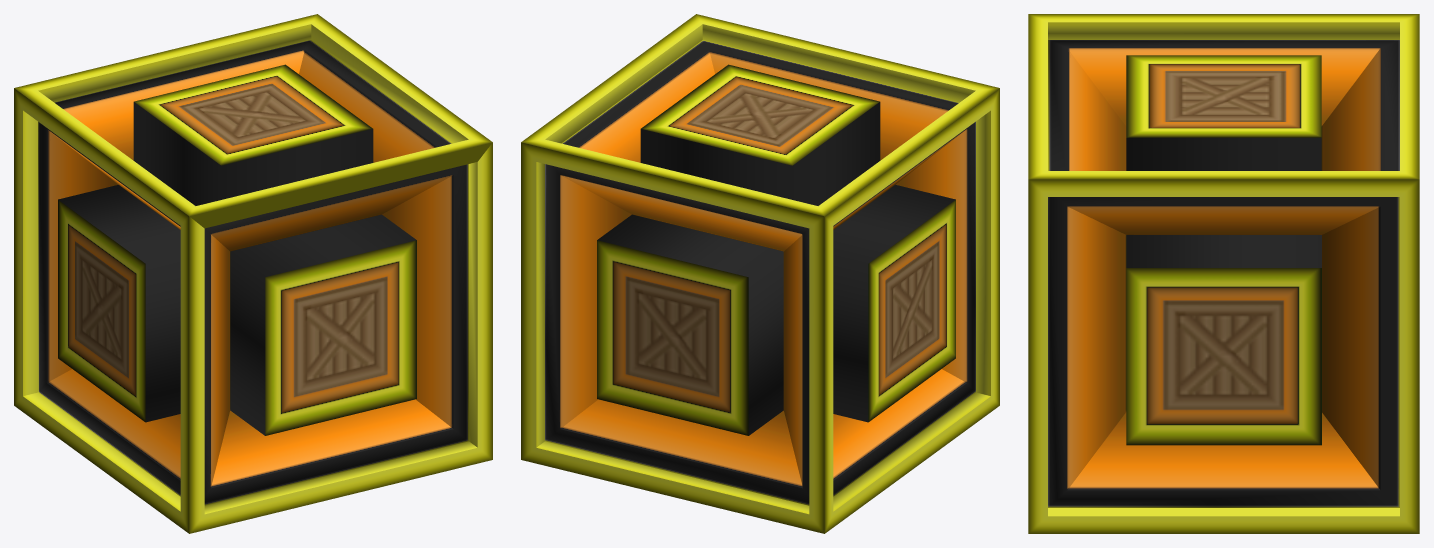
The model's file is infinite_barrel.obj.
The picture shows the model from 3 angles, left to right: view 1: azimuth 30°, elevation 25°; view 2: azimuth 150°, elevation 25°; view 3: azimuth 270°, elevation 25°; orthographic projection. The views are drawn at different scales.
Parts seen in each view (by area): view 1: Cube.002; view 2: Cube.002; view 3: Cube.002.
Boxes of the visible parts, x1,y1,x2,y2 form: Cube.002: (14,14,492,533); Cube.002: (521,14,999,533); Cube.002: (1028,14,1419,533).
Size of the model in its own units: 1 by 1 by 1.
